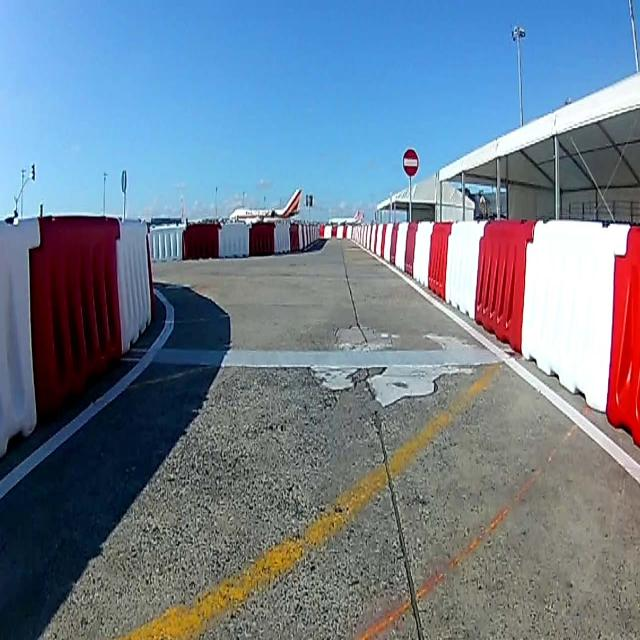girisyok: (403, 146, 420, 178)
